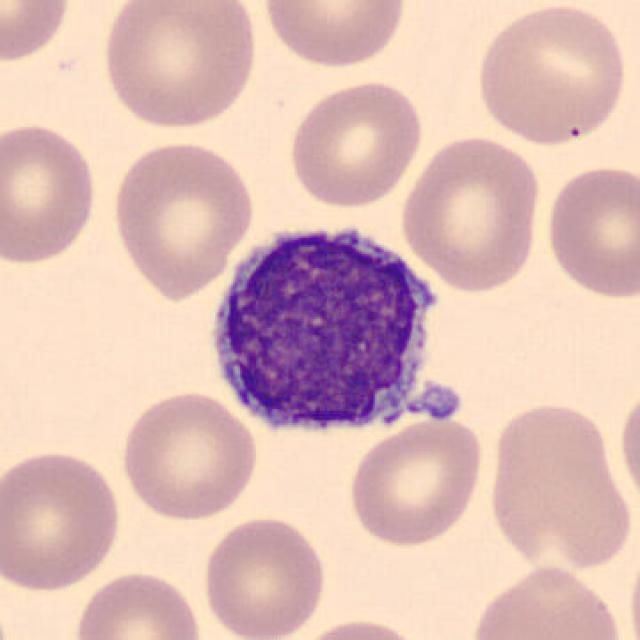Lymphocyte: (197, 210, 453, 446)
RBC: (482, 396, 634, 574), (108, 136, 258, 301), (396, 130, 546, 294), (469, 0, 631, 148), (98, 0, 261, 132), (118, 388, 262, 524), (345, 414, 487, 548), (284, 76, 426, 210), (0, 444, 126, 594), (199, 513, 331, 640), (0, 118, 101, 269), (540, 160, 638, 304), (466, 562, 628, 640), (258, 0, 410, 71), (69, 567, 206, 640), (0, 0, 75, 67), (290, 613, 432, 640), (615, 381, 640, 511)
